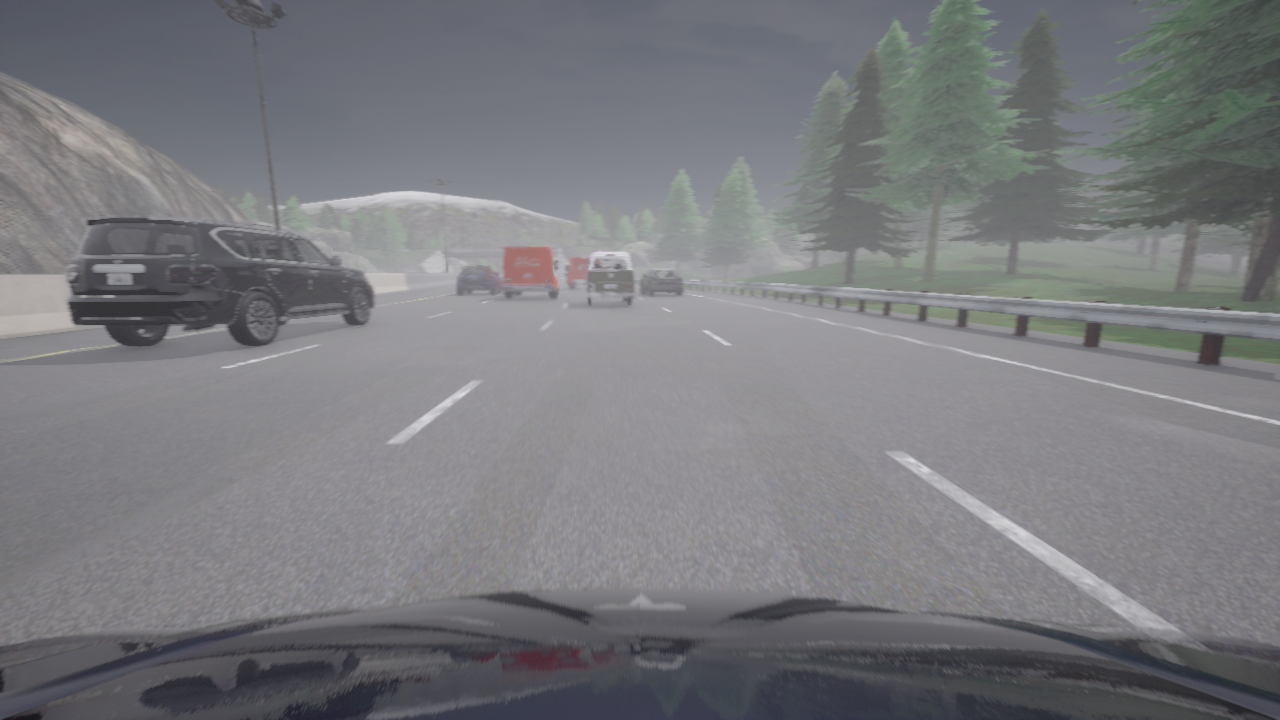cyclist: (0, 588, 1279, 719), (66, 217, 374, 346), (502, 246, 558, 298), (582, 250, 634, 305), (457, 265, 501, 294), (640, 269, 682, 295), (566, 257, 588, 288), (567, 278, 568, 283)
